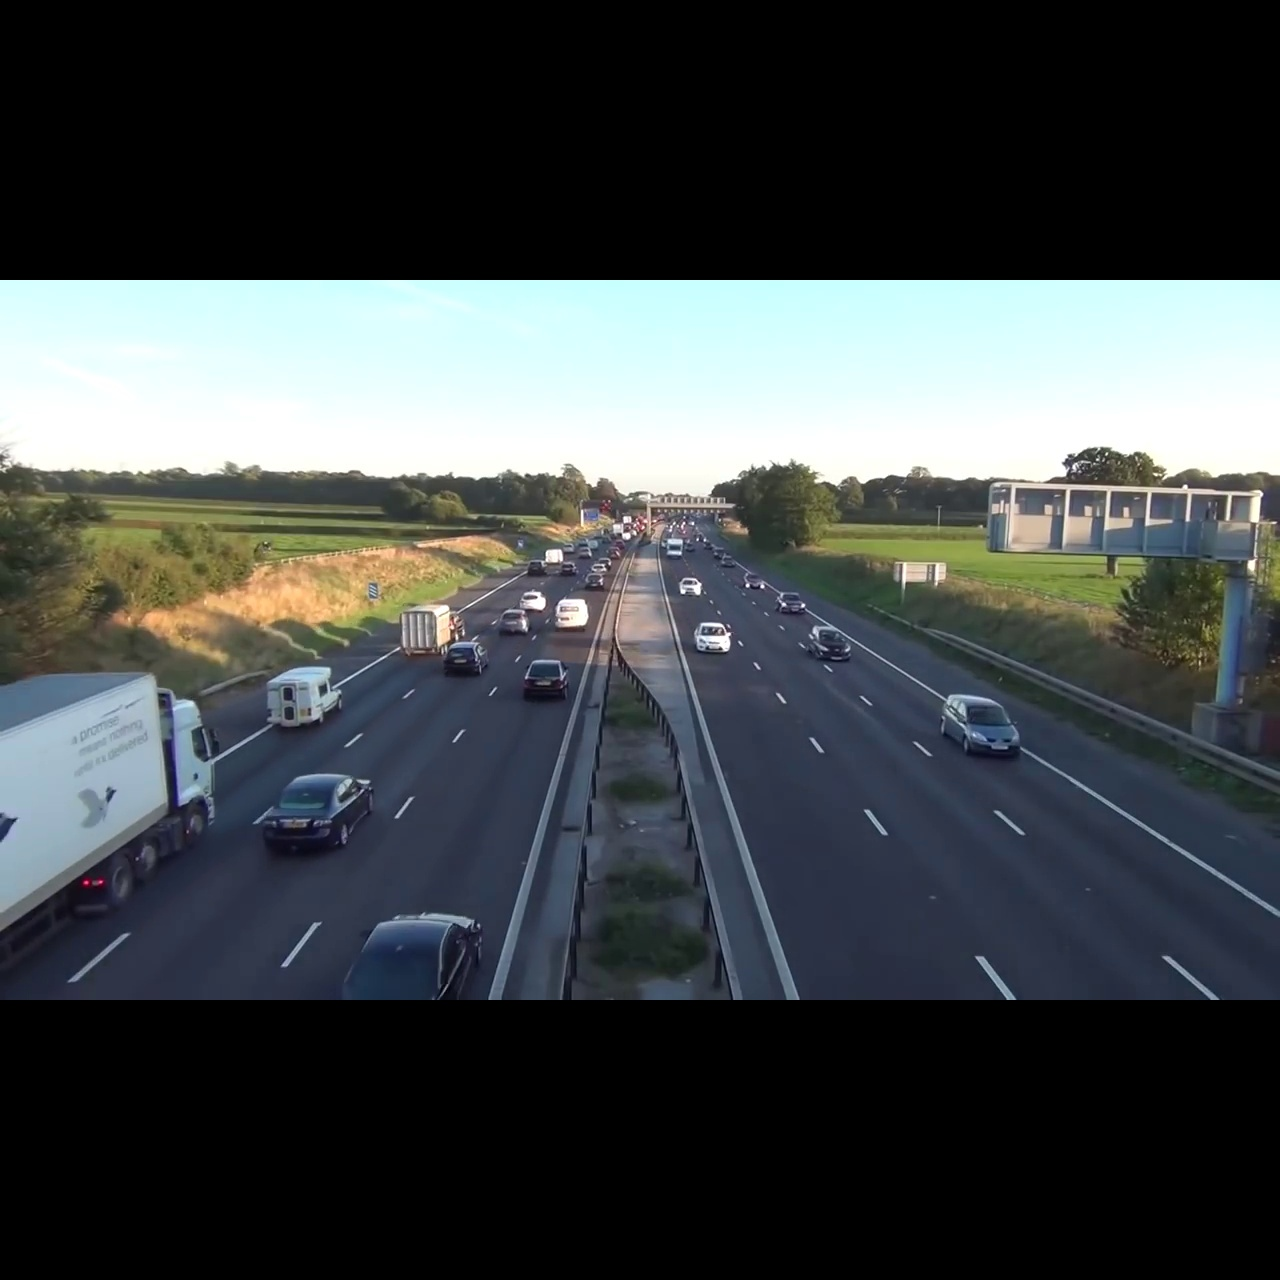vehicle: (1, 669, 225, 934), (338, 906, 492, 999), (259, 767, 379, 859), (937, 688, 1027, 762), (263, 663, 350, 735), (399, 599, 468, 658), (519, 655, 574, 703), (804, 624, 856, 663), (441, 641, 491, 678), (694, 621, 736, 658), (554, 598, 591, 633), (495, 608, 533, 638), (774, 590, 808, 615), (518, 590, 549, 614), (679, 576, 704, 598), (743, 571, 768, 590), (585, 573, 606, 592), (527, 559, 549, 576), (559, 561, 578, 576)
